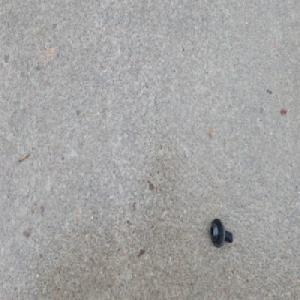BoltWasher: (209, 217, 233, 249)
